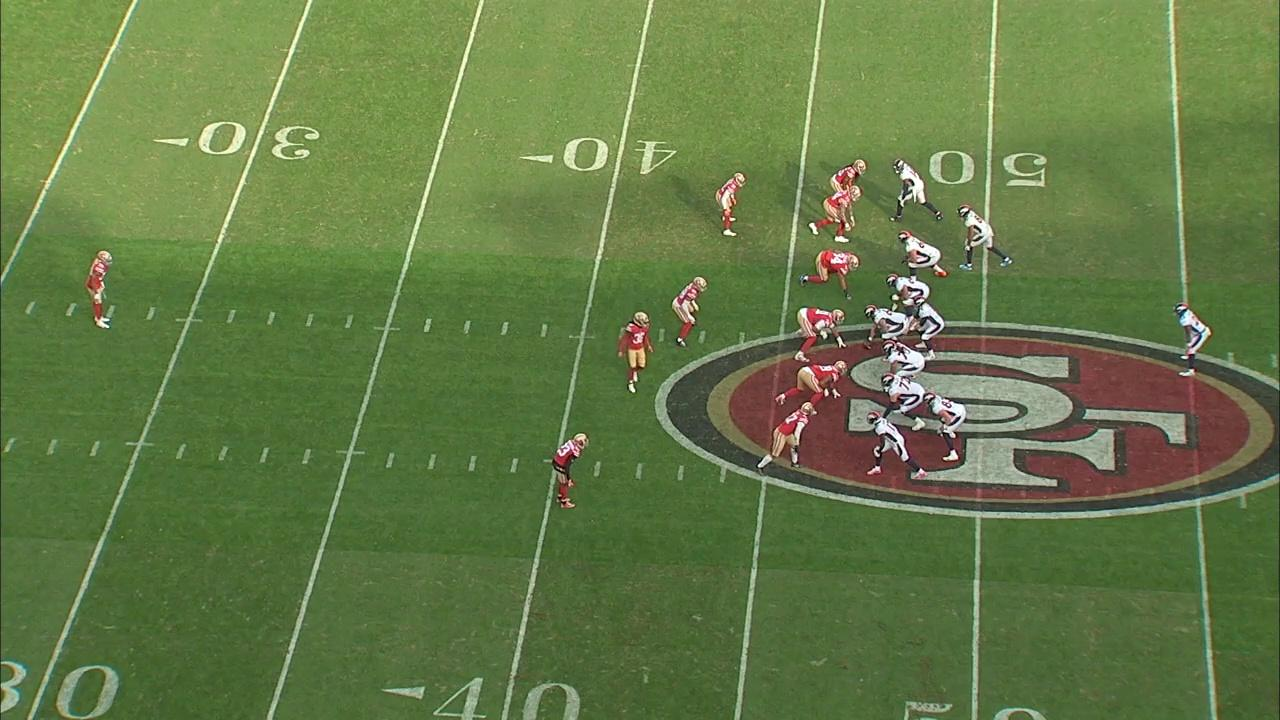defense: (754, 401, 816, 478), (772, 359, 850, 417), (615, 310, 656, 396), (798, 248, 862, 302), (807, 184, 864, 244), (550, 431, 591, 511), (793, 306, 849, 363), (670, 274, 710, 349), (83, 247, 117, 333), (714, 171, 749, 239), (828, 157, 870, 194)
oline: (877, 372, 928, 432), (862, 303, 912, 364), (896, 229, 950, 283), (885, 273, 931, 332), (880, 339, 927, 381)
qb: (903, 294, 946, 362)
skill: (864, 409, 929, 483), (955, 202, 1016, 275), (888, 156, 946, 224), (922, 390, 968, 465), (1173, 301, 1214, 380)
